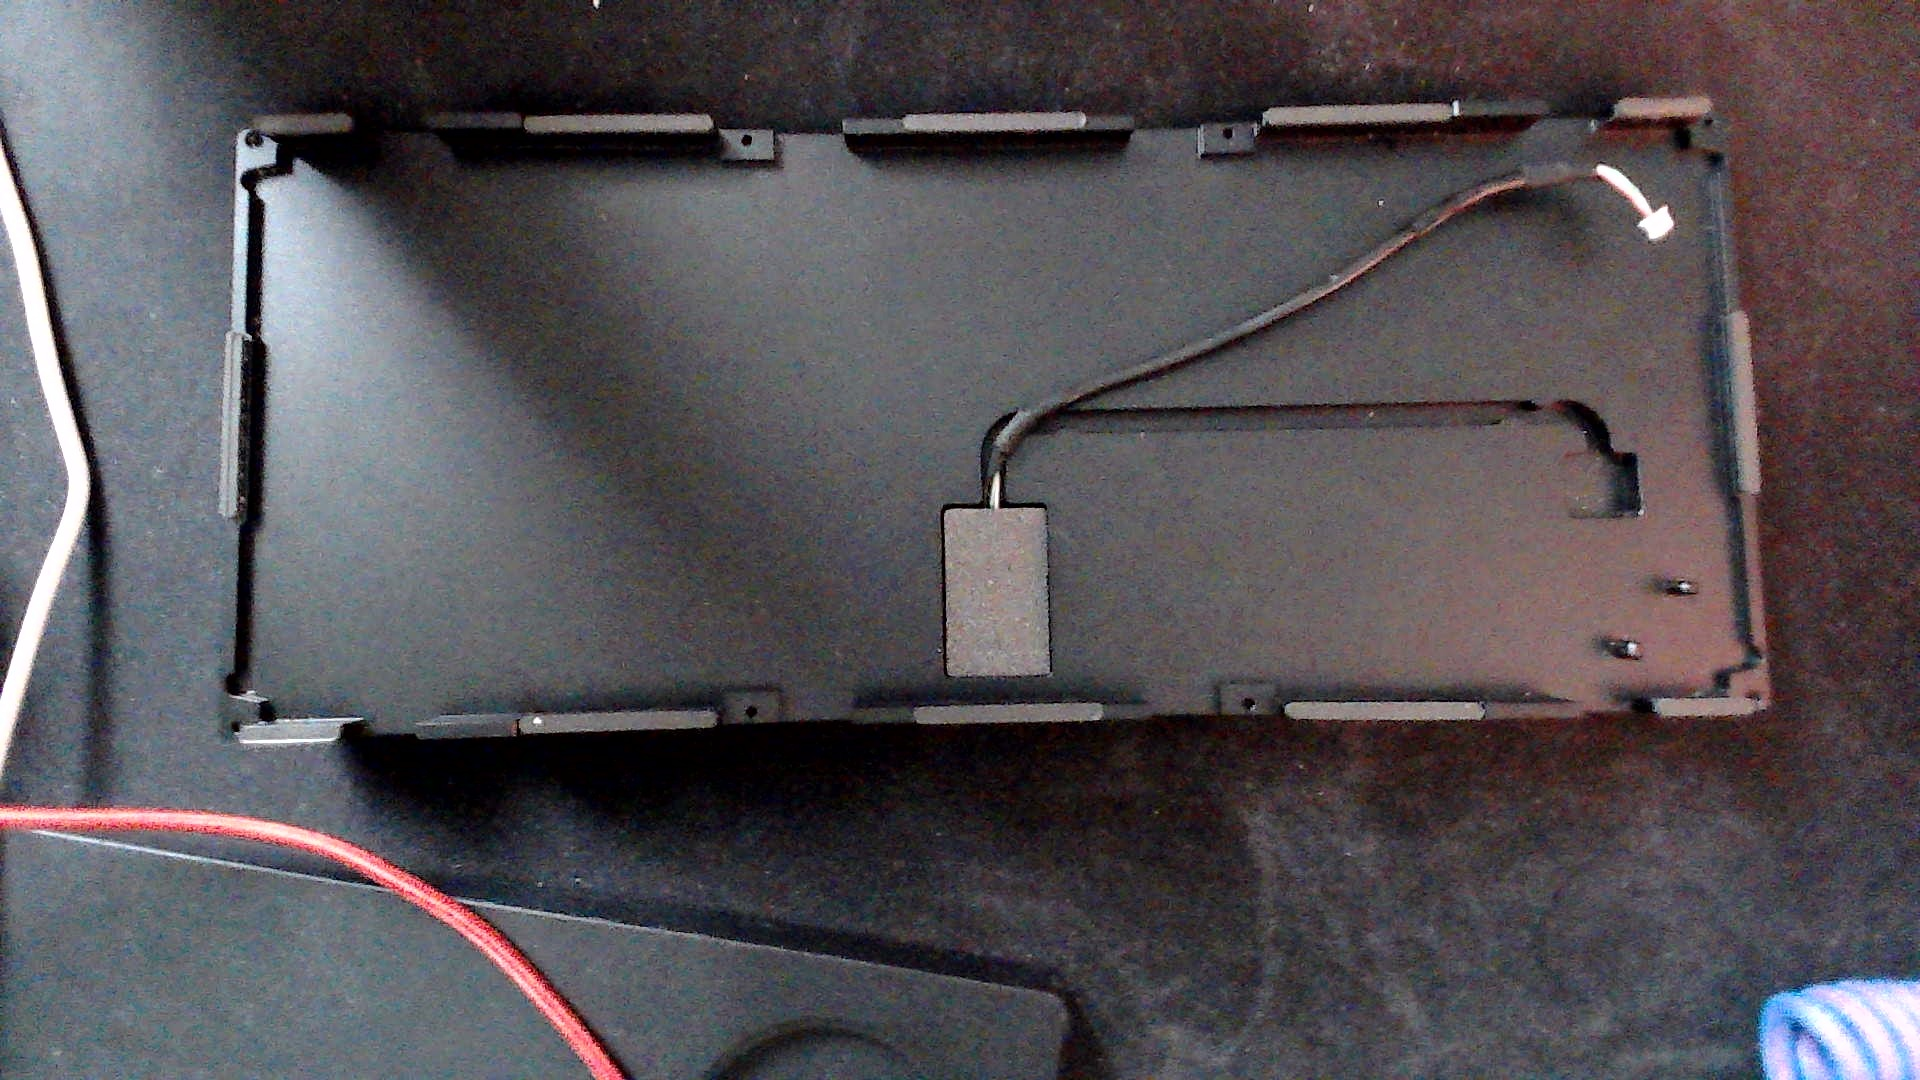case: (198, 61, 1800, 775)
